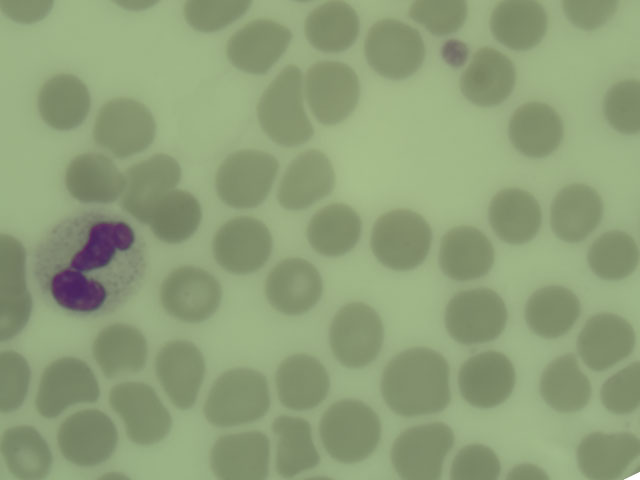RBC: (253, 68, 308, 144), (370, 210, 432, 271), (522, 281, 585, 341), (439, 285, 506, 340), (384, 353, 446, 410), (207, 370, 273, 423), (362, 19, 420, 77), (459, 350, 517, 408), (323, 398, 376, 456), (209, 428, 266, 480), (578, 422, 628, 480), (277, 351, 330, 405), (305, 1, 357, 53), (41, 72, 90, 127), (97, 320, 146, 375), (549, 184, 598, 239), (468, 46, 517, 101), (507, 98, 556, 153), (491, 185, 540, 240), (441, 226, 490, 281), (304, 63, 353, 118), (167, 262, 216, 317), (216, 215, 265, 270), (267, 250, 316, 305), (308, 196, 357, 251), (281, 153, 330, 208), (222, 149, 271, 204), (152, 185, 201, 240), (124, 149, 173, 204), (75, 141, 124, 196), (100, 97, 149, 152), (392, 425, 441, 480), (540, 355, 589, 410), (64, 403, 113, 458), (38, 352, 87, 407), (591, 221, 640, 276), (158, 340, 202, 401), (118, 379, 162, 440), (583, 308, 627, 369), (274, 415, 318, 476), (332, 301, 376, 362), (1, 420, 48, 475), (231, 19, 286, 64), (494, 1, 541, 49), (600, 78, 640, 134), (1, 349, 34, 410), (451, 439, 500, 480), (1, 279, 35, 337), (561, 1, 616, 35), (602, 365, 640, 414), (181, 1, 244, 29), (415, 1, 466, 35), (1, 1, 57, 26), (1, 241, 27, 293), (508, 465, 552, 480)
WBC: (32, 219, 141, 316)
